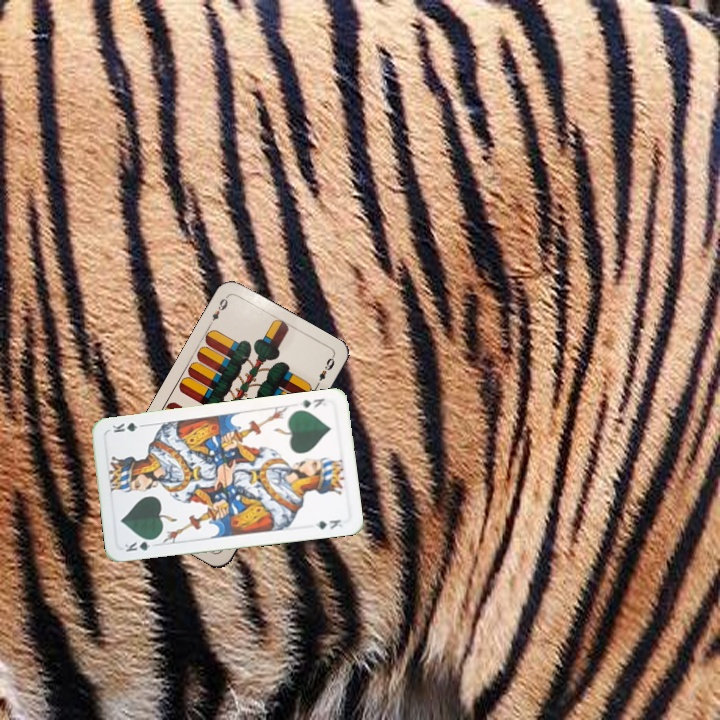E9: (205, 292, 231, 329)
GK: (119, 535, 160, 554), (295, 394, 332, 411)
